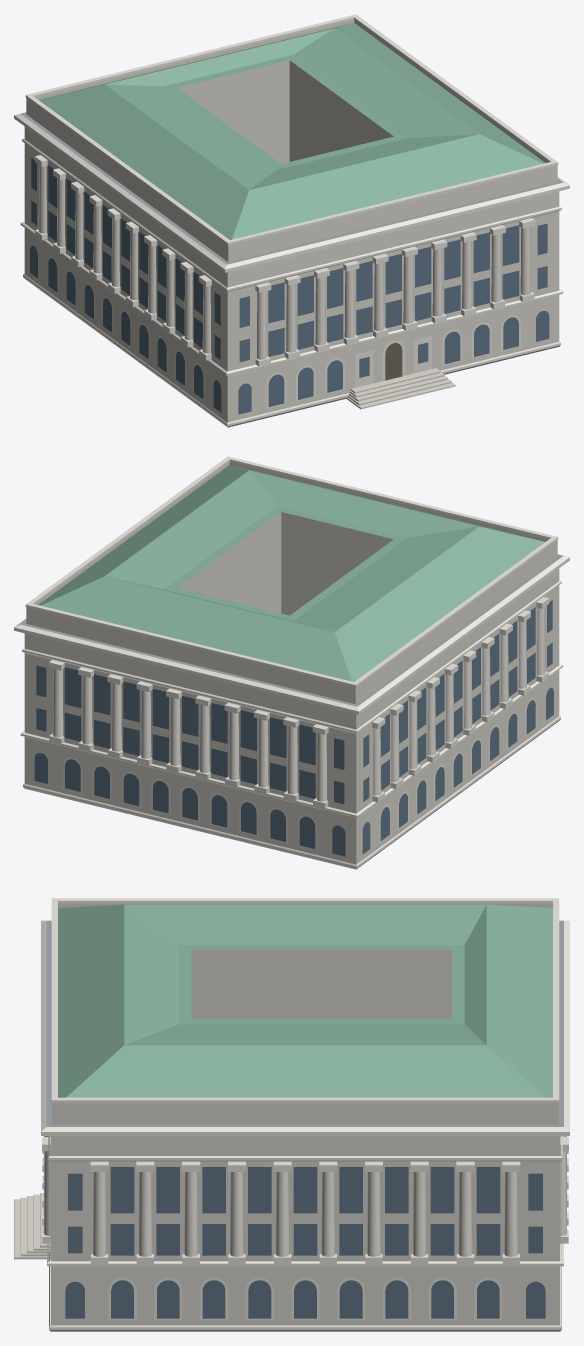
Rendered from cle-public-library.glb.
The picture shows the model from 3 angles, top to bottom: view 1: azimuth 30°, elevation 25°; view 2: azimuth 150°, elevation 25°; view 3: azimuth 270°, elevation 25°; orthographic projection. The views are drawn at different scales.
Visible parts, largest first — view 1: Cleveland Public Library; view 2: Cleveland Public Library; view 3: Cleveland Public Library.
Boxes of the visible parts, x1,y1,x2,y2 form: Cleveland Public Library: (14,14,569,427); Cleveland Public Library: (14,456,569,869); Cleveland Public Library: (14,898,569,1331).
Size of the model in its own units: 61.2 by 34.5 by 68.1.
